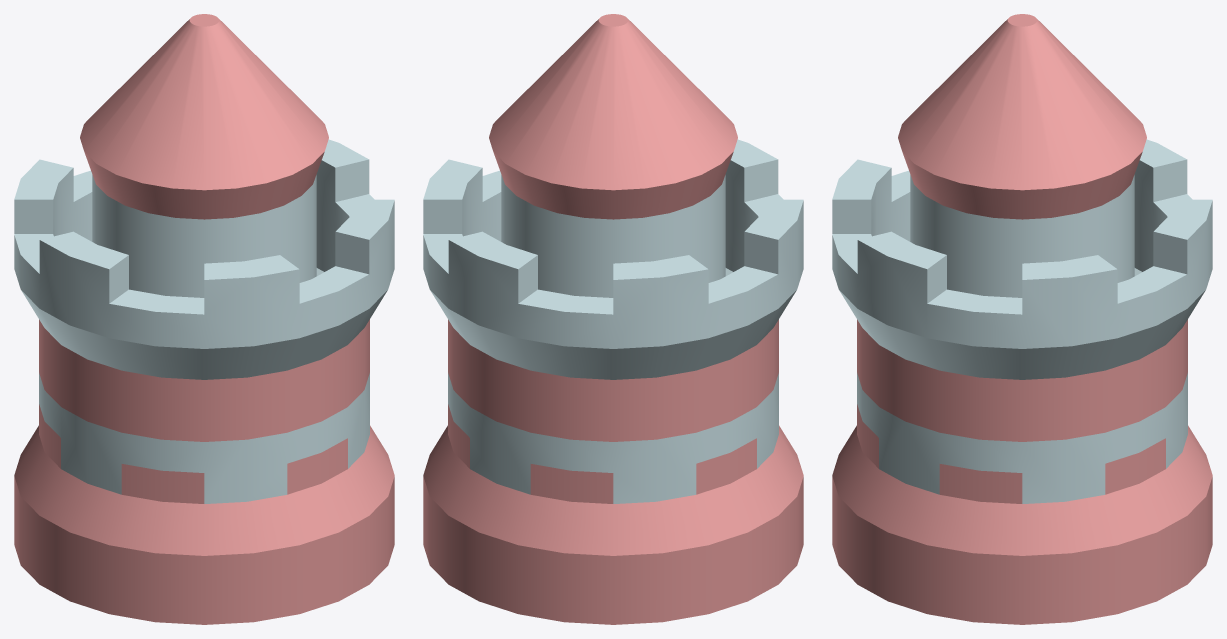
The model's file is command_center.glb.
The picture shows the model from 3 angles, left to right: view 1: azimuth 30°, elevation 25°; view 2: azimuth 150°, elevation 25°; view 3: azimuth 270°, elevation 25°; orthographic projection.
Visible parts, largest first — view 1: towerRound_sampleF; view 2: towerRound_sampleF; view 3: towerRound_sampleF.
Part boxes in pixels (left/top/right/bottom): towerRound_sampleF: left=14, top=14, right=394, bottom=624; towerRound_sampleF: left=423, top=14, right=803, bottom=624; towerRound_sampleF: left=832, top=14, right=1212, bottom=624.
Bounding box in the file's own units: 0.5 × 0.76 × 0.5.
